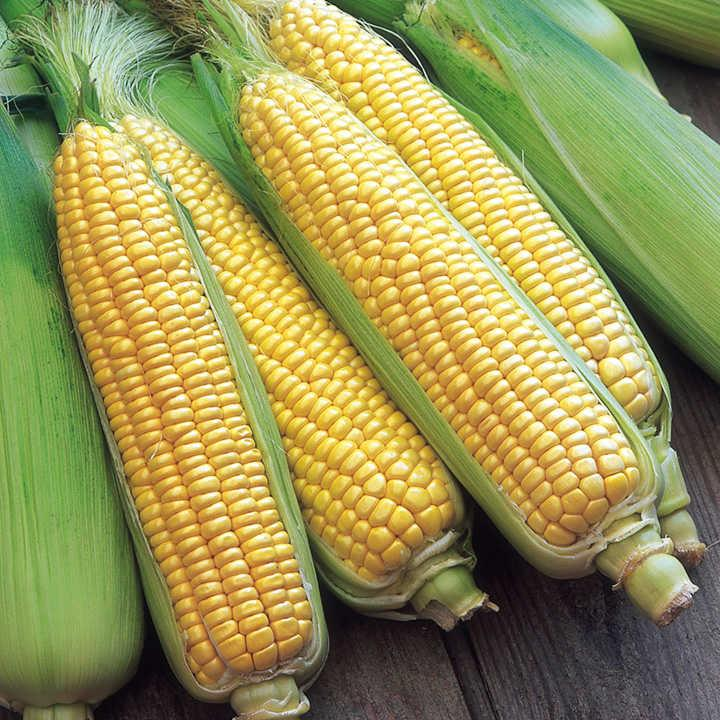sweetcorn: (4, 1, 708, 715), (8, 4, 326, 712), (232, 58, 655, 568), (117, 109, 499, 631), (355, 0, 718, 385), (0, 94, 145, 717)
